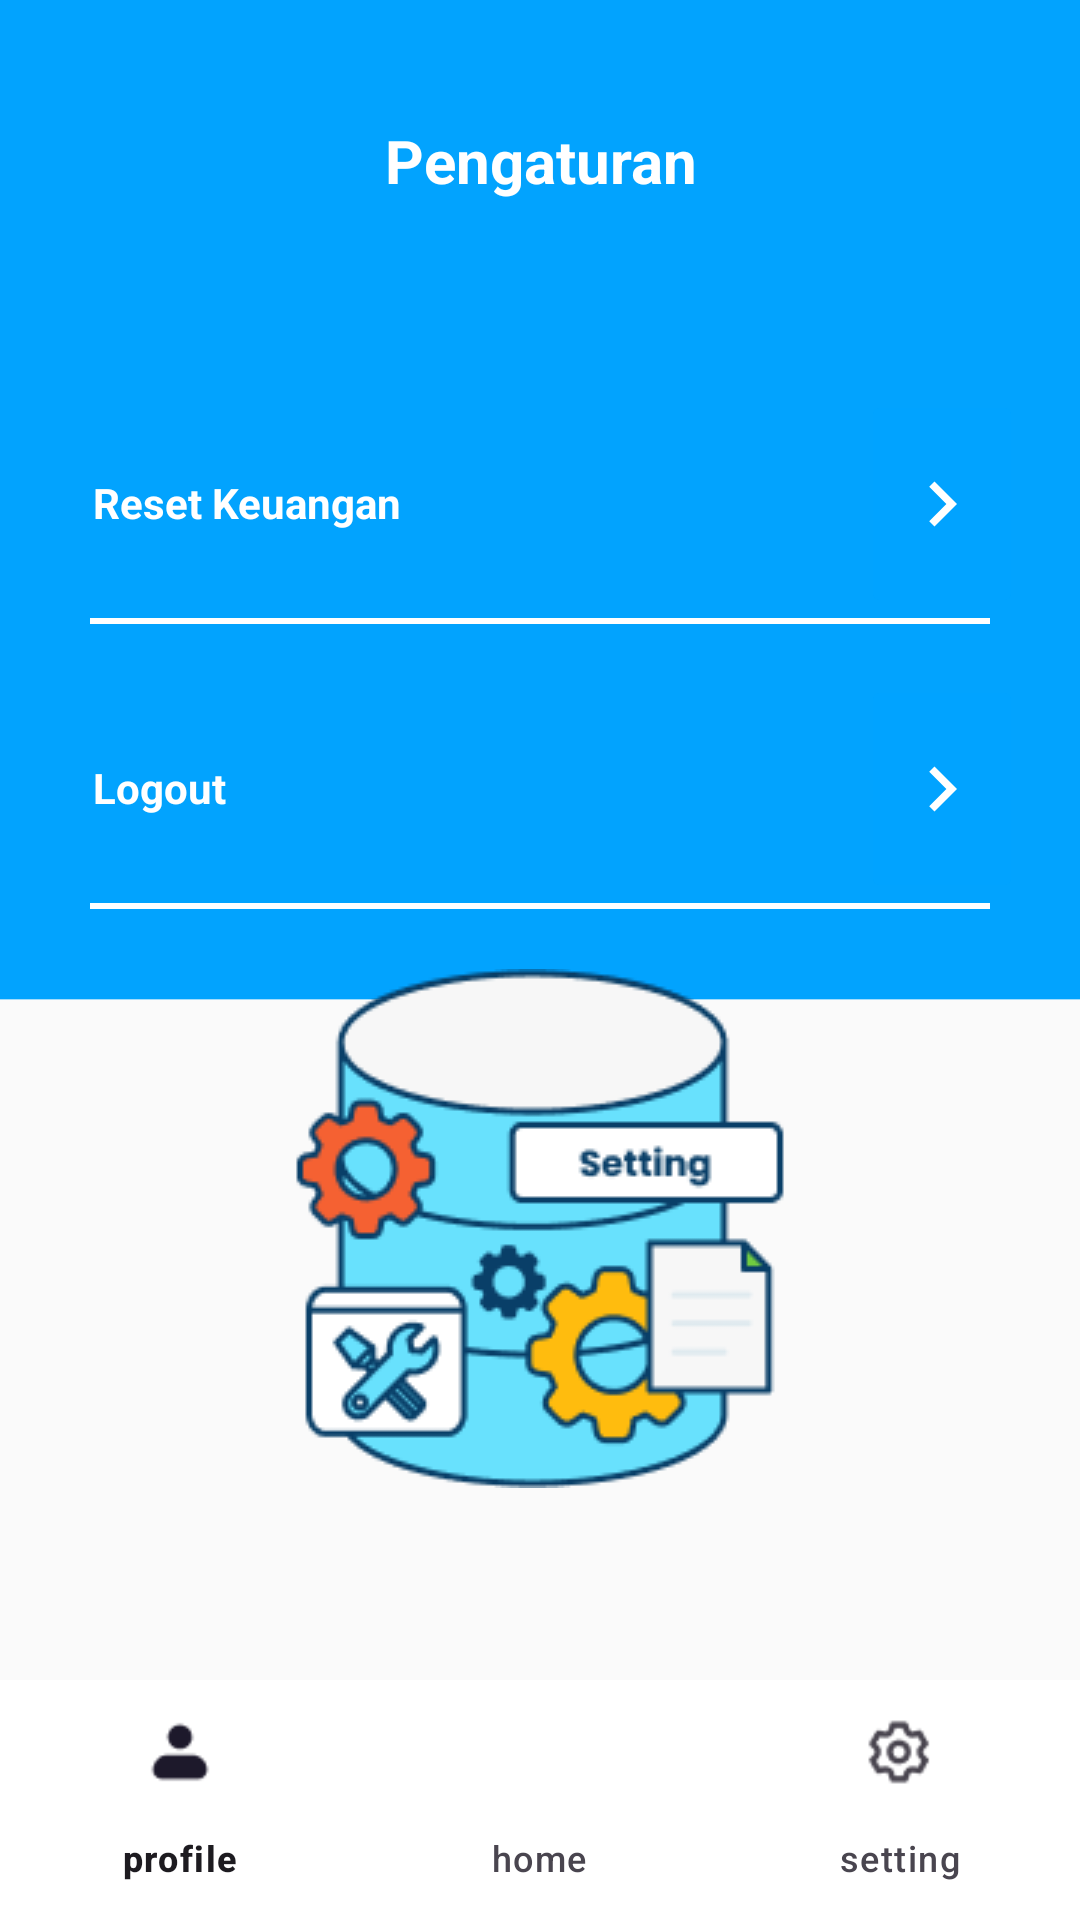

Icon click points for this 1080*1920 phone screenshot, format [x,y]:
keyboard arrow right: [943,504], [943,789]
